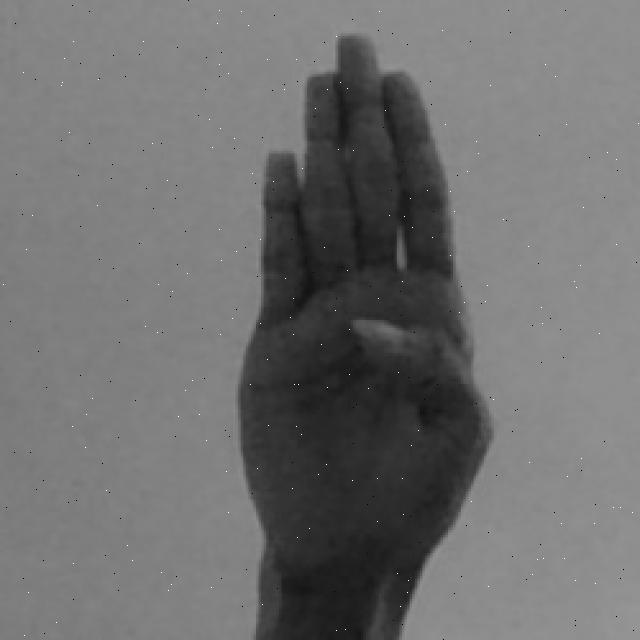B: (237, 30, 498, 640)
